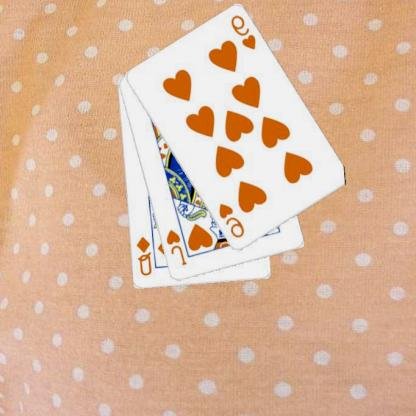9H: (230, 12, 260, 52), (218, 200, 247, 240)
JH: (164, 227, 190, 267)
QD: (135, 234, 155, 278)
